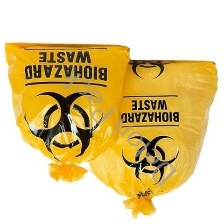plastic_bag: (74, 58, 224, 221), (0, 37, 137, 188)
